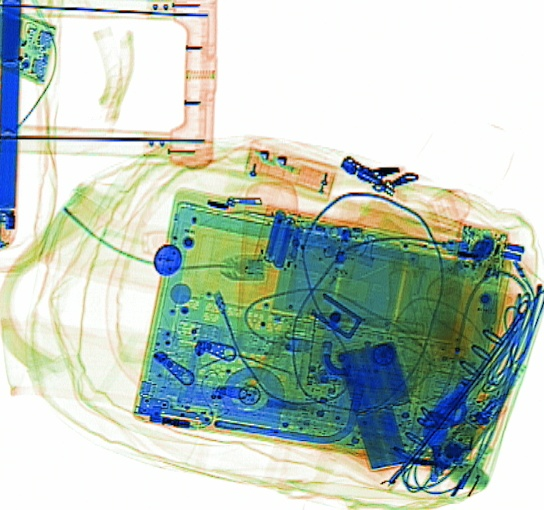powerbank: (335, 338, 414, 470)
